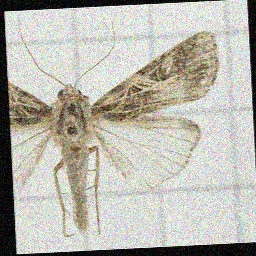Spodoptera litura: (10, 12, 223, 233)
